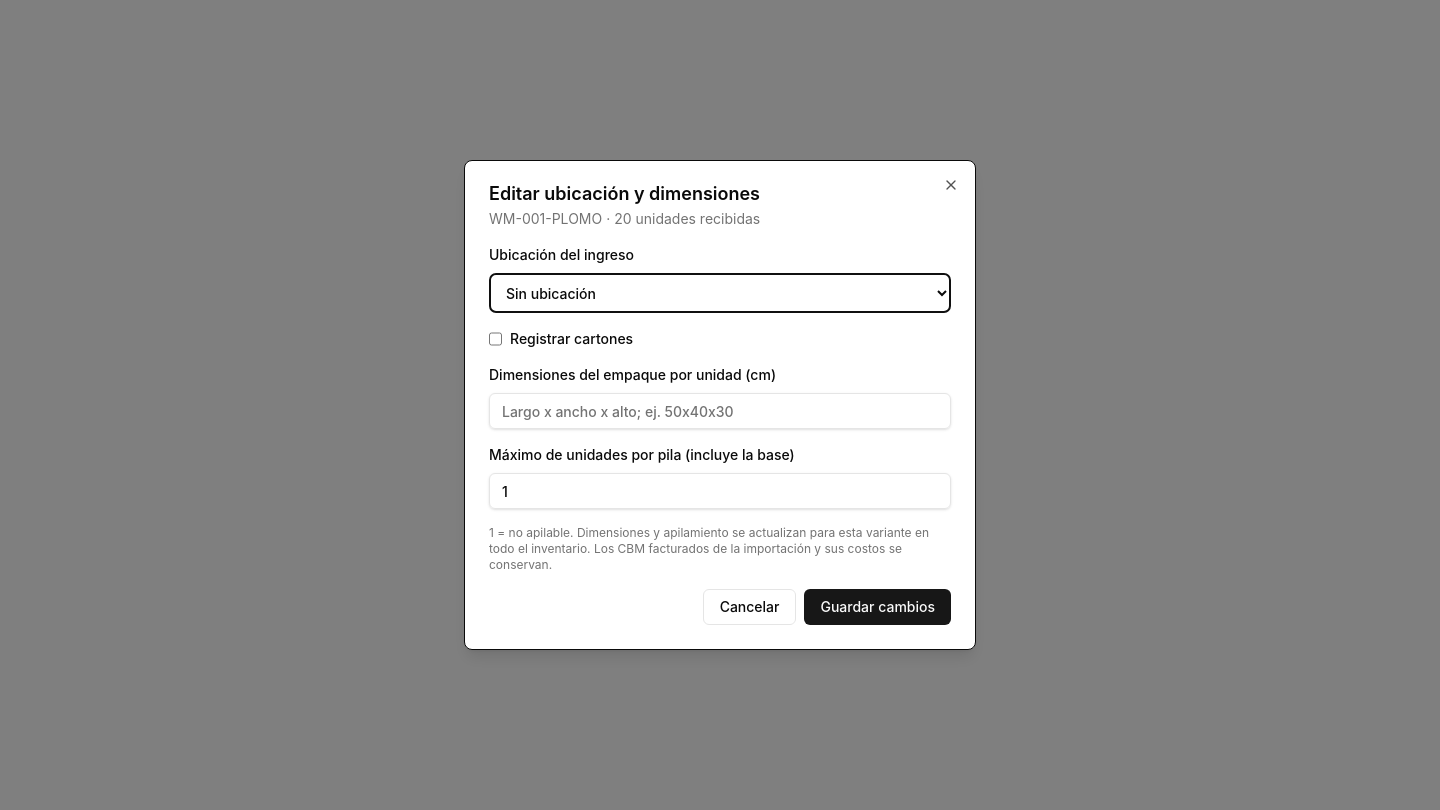
Test case: Editar un ingreso sin ubicación › mantiene el diálogo abierto ante conflictos y bloquea dimensiones inválidas
Type "50x0x30" into the field labelled "Dimensiones del empaque por unidad (cm)" at (720, 411), box [489,393,951,429]
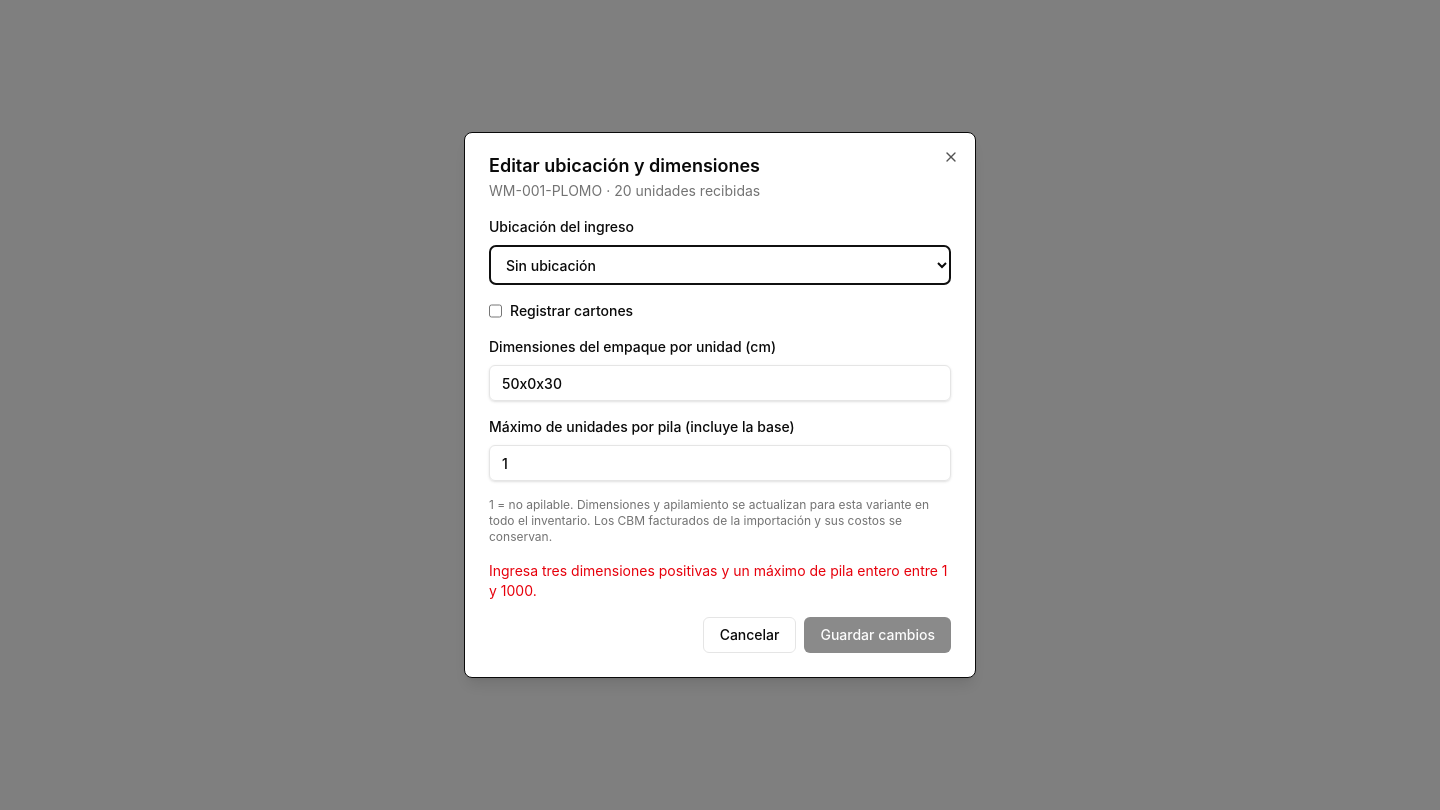
Check: the button "Guardar cambios" is disabled, box [804,617,951,653]
Replace the text in the field labelled "Dimensiones del empaque por unidad (cm)" with "50x40x30" at (720, 383), box [489,365,951,401]
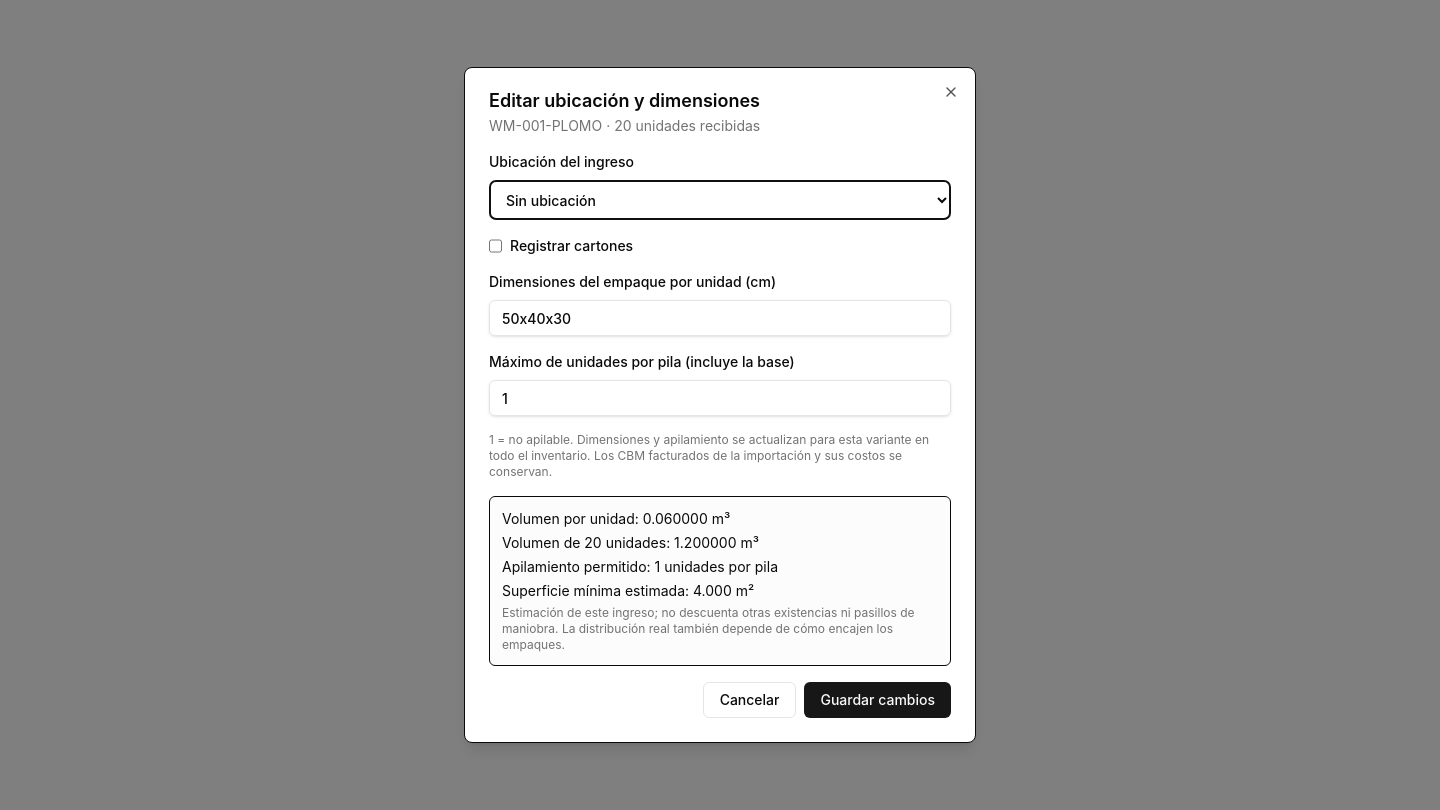
Click the button "Guardar cambios" at (878, 700), box [804,682,951,718]
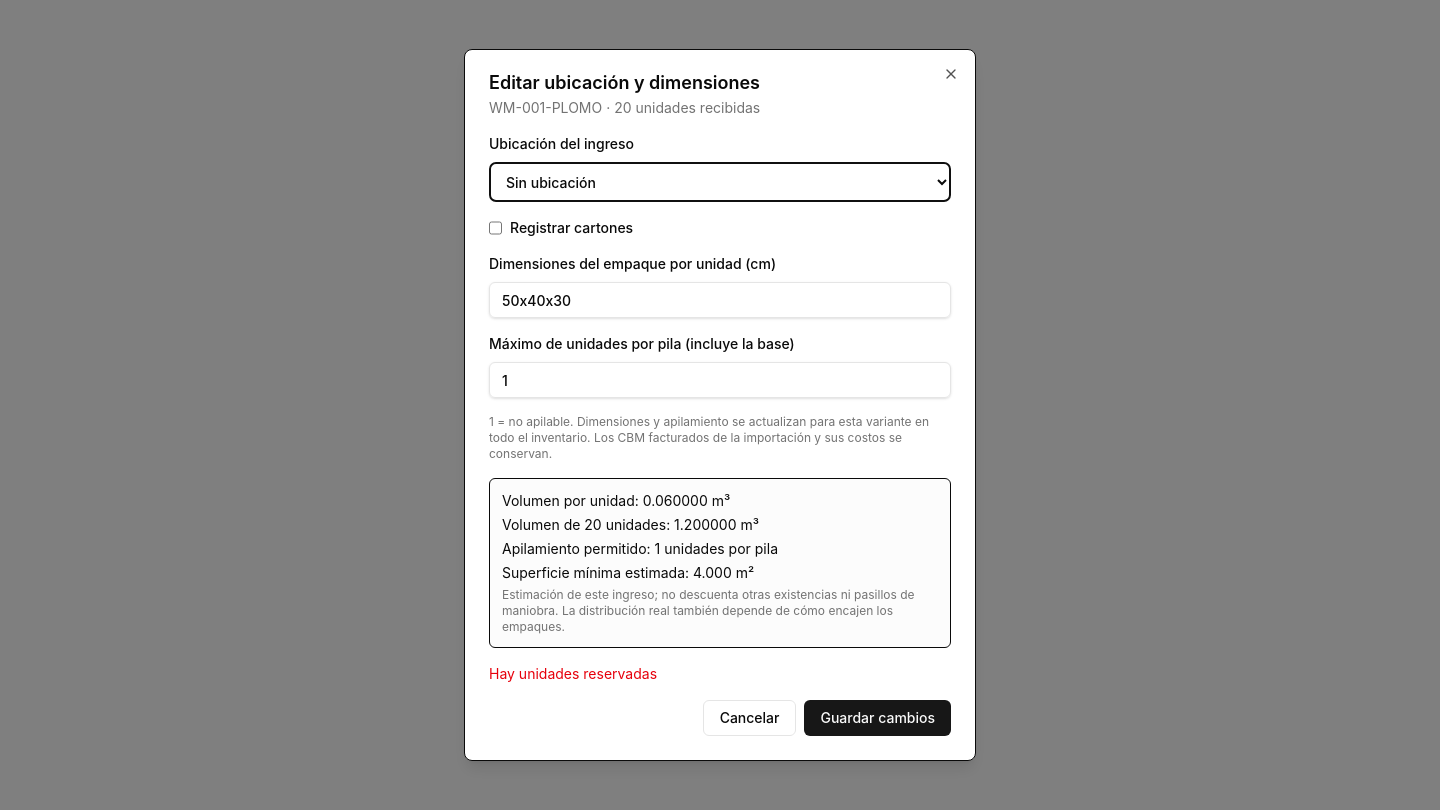
Check: the message reads "Hay unidades reservadas", box [489,665,657,682]
